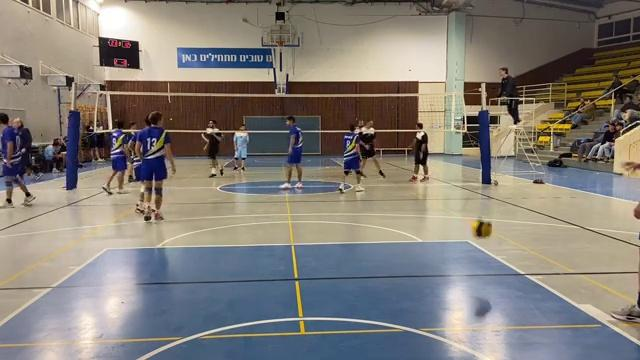ball: (471, 216, 498, 246)
